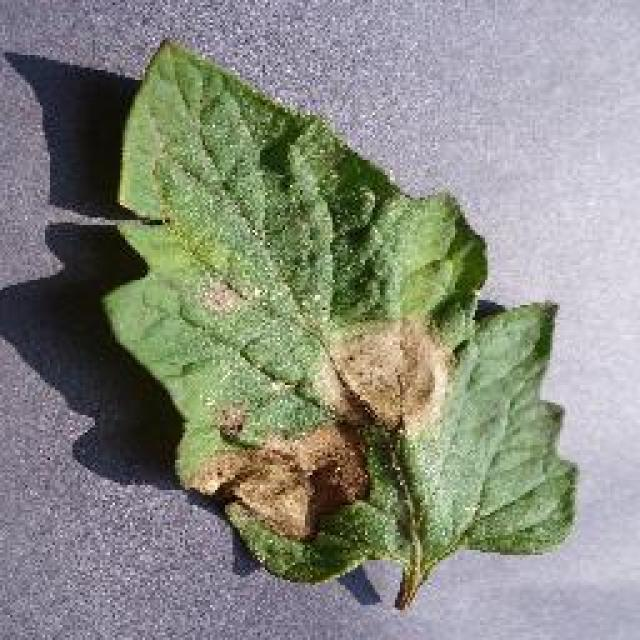Tomato Late Blight: (172, 242, 475, 562)
